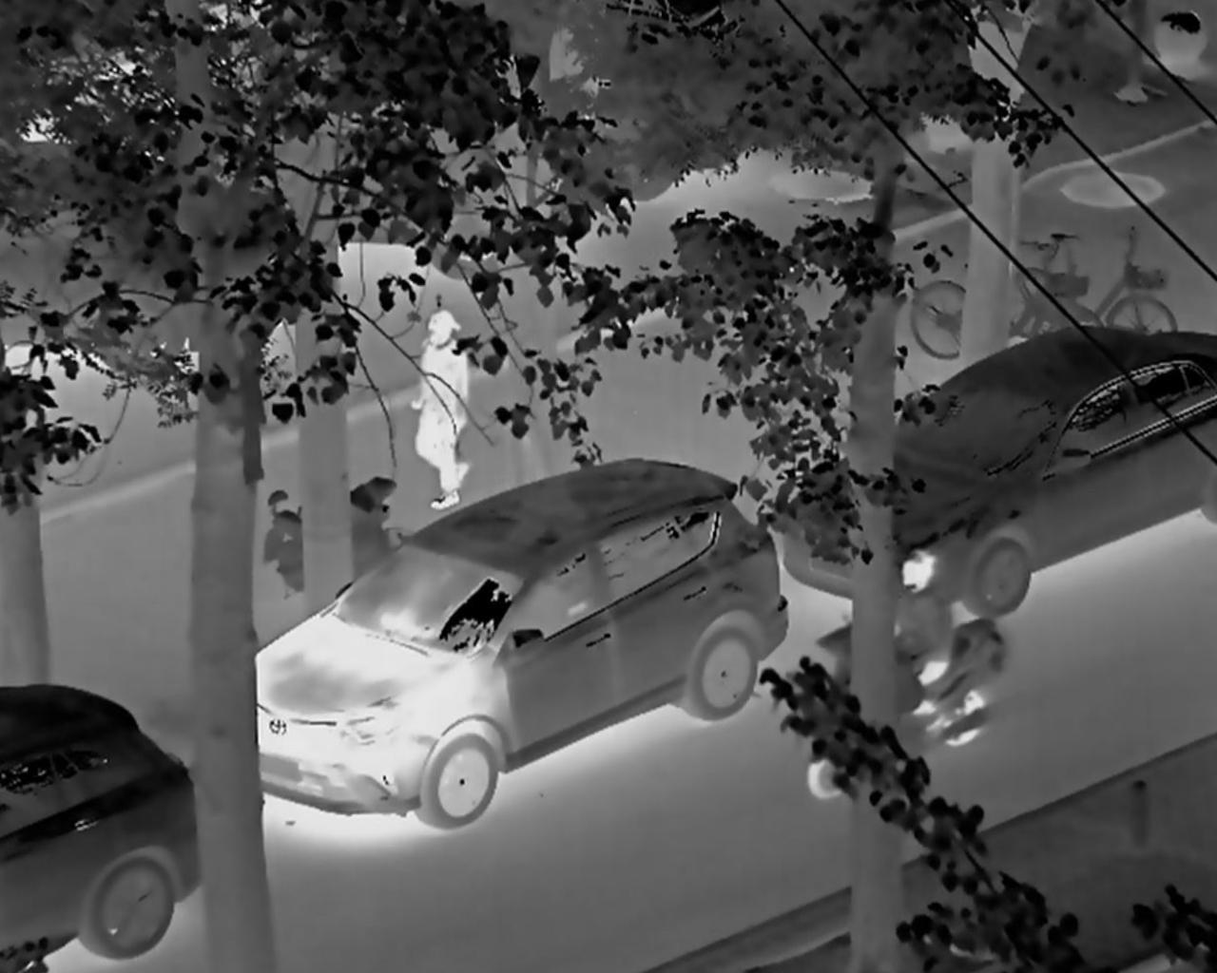person: (408, 307, 472, 508), (894, 553, 949, 712)
